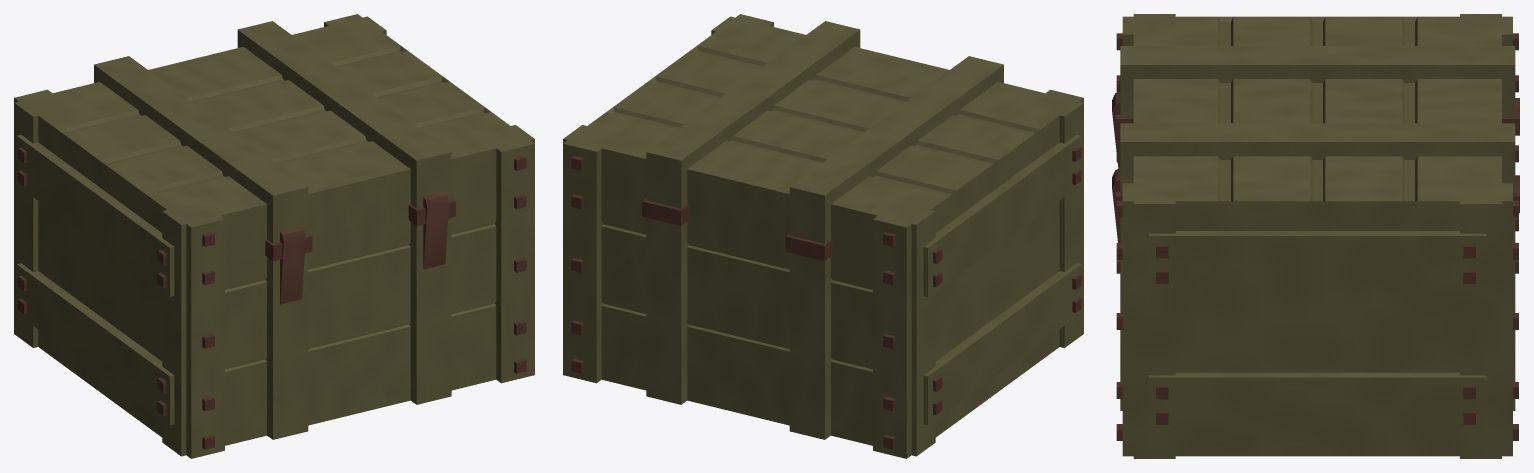
The model's file is BoxGreenCloseSmall.fbx.
3 views of the same model, side by side, from view 1: azimuth 30°, elevation 25°; view 2: azimuth 150°, elevation 25°; view 3: azimuth 270°, elevation 25° (orthographic). The views are drawn at different scales.
Visible parts, largest first — view 1: Cube.019; view 2: Cube.019; view 3: Cube.019.
Part boxes in pixels (bbox=[...]): Cube.019: bbox=[14, 14, 534, 458]; Cube.019: bbox=[563, 14, 1083, 458]; Cube.019: bbox=[1112, 14, 1519, 458].
Bounding box in the file's own units: 111 × 70.43 × 96.74.
